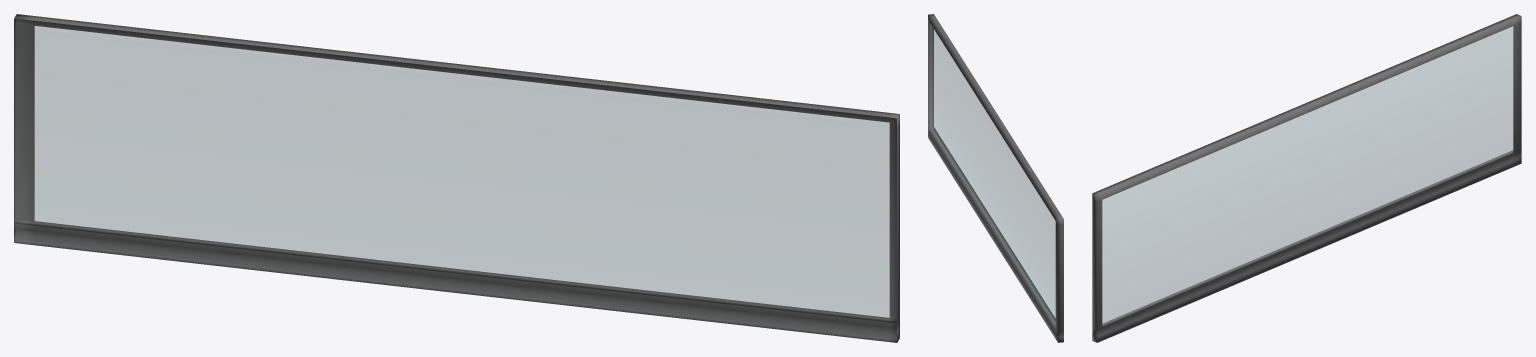
Rendered from sidingcorner.fbx.
3 views of the same model, side by side, from view 1: azimuth 30°, elevation 25°; view 2: azimuth 150°, elevation 25°; view 3: azimuth 270°, elevation 25° (orthographic). The views are drawn at different scales.
Visible parts, largest first — view 1: SidingCorner; view 2: SidingCorner; view 3: SidingCorner.
Part boxes in pixels (x1=…): SidingCorner: x1=14, y1=14, x2=899, y2=342; SidingCorner: x1=928, y1=14, x2=1063, y2=342; SidingCorner: x1=1092, y1=14, x2=1521, y2=342.
Size of the model in its own units: 30.35 by 11.5 by 30.35.
